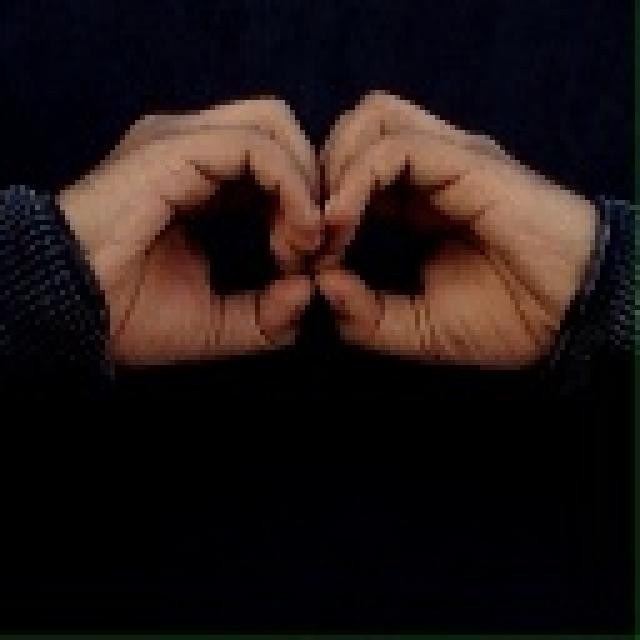Alphabet-B: (32, 78, 625, 368)
